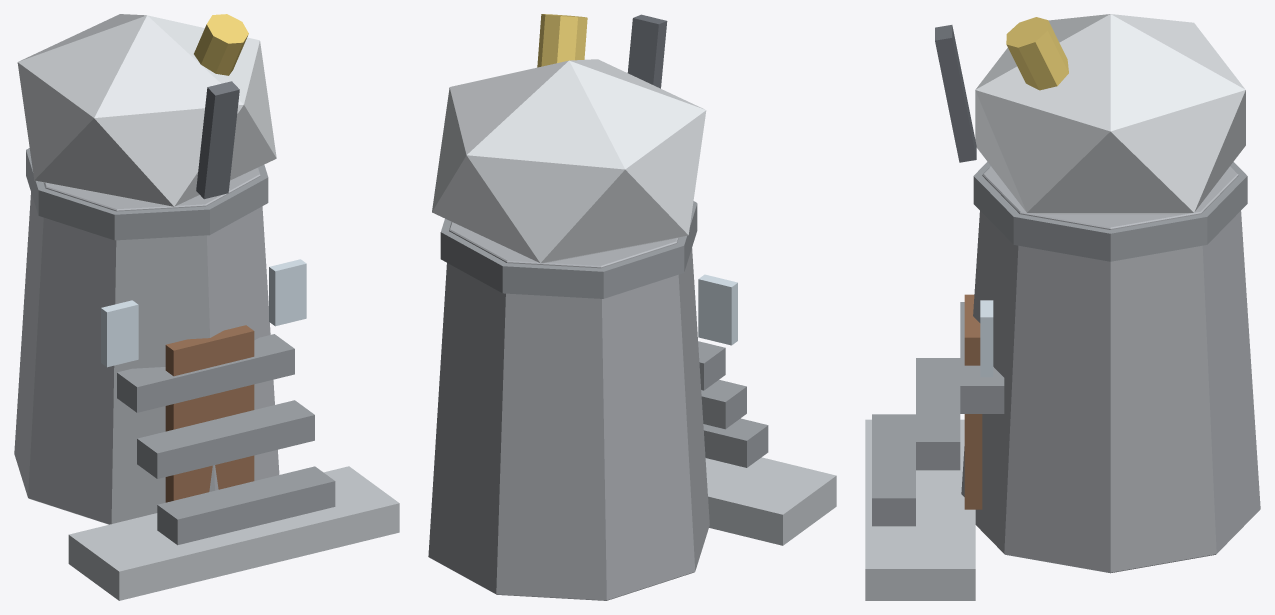
The model's file is observatory.glb.
3 views of the same model, side by side, from view 1: azimuth 30°, elevation 25°; view 2: azimuth 150°, elevation 25°; view 3: azimuth 270°, elevation 25° (orthographic). The views are drawn at different scales.
Parts seen in each view (by area): view 1: step.001; view 2: step.001; view 3: step.001.
Boxes of the visible parts, <box> form: step.001: <box>14,14,399,600</box>; step.001: <box>428,14,836,600</box>; step.001: <box>865,14,1260,600</box>.
Size of the model in its own units: 1.6 by 2.62 by 1.79.
